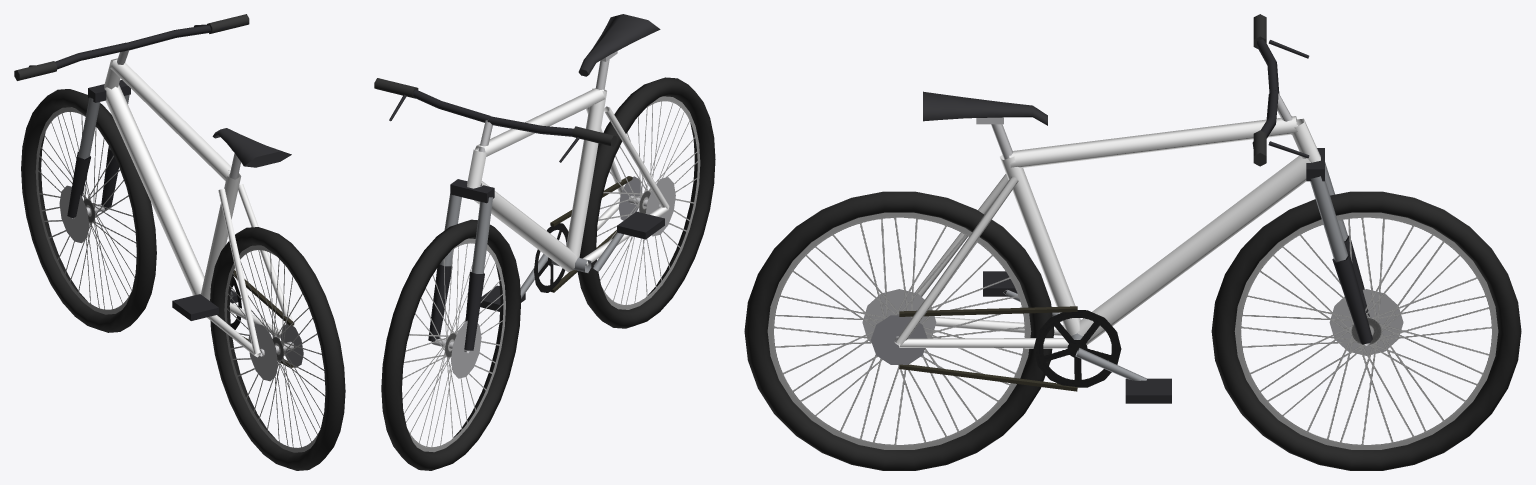
The model's file is mtb.glb.
3 renders of one model, left to right at view 1: azimuth 30°, elevation 25°; view 2: azimuth 150°, elevation 25°; view 3: azimuth 270°, elevation 25°, orthographic. The views are drawn at different scales.
Visible parts, largest first — view 1: bike; view 2: bike; view 3: bike.
Boxes of the visible parts, left/top/right/bottom form: bike: left=14, top=14, right=345, bottom=470; bike: left=374, top=14, right=715, bottom=470; bike: left=744, top=14, right=1521, bottom=470.
Size of the model in its own units: 0.71 by 0.9247 by 1.68.
1 material, 1 textured.
